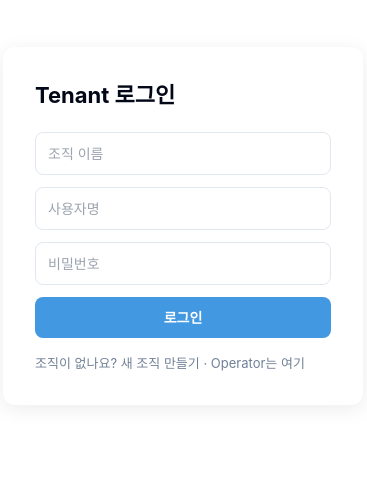
Scenario: TenantLogin — 가입/로그인 + 비밀번호 확인·정책 (issue 209·211) › 비밀번호 정책 위반(400)이면 백엔드 메시지를 보여준다
Click the link "새 조직 만들기": {"x": 160, "y": 363} [121,355,200,371]
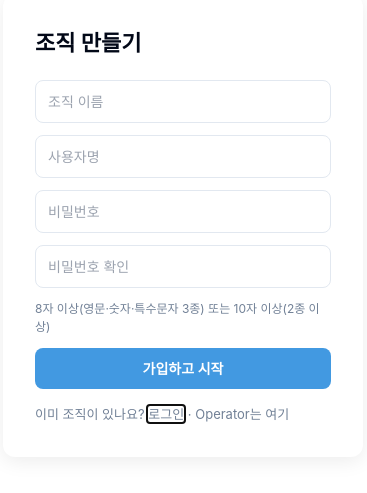
In the field with placeholder "조직 이름": {"x": 183, "y": 102} [35,80,331,123], type "NewCo"
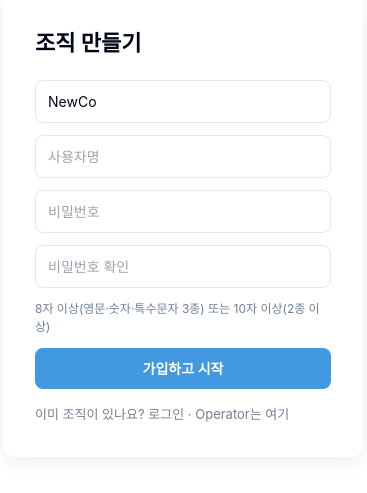
In the field with placeholder "사용자명": {"x": 183, "y": 157} [35,135,331,178], type "owner"
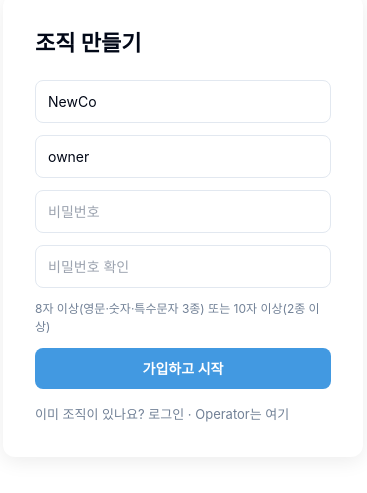
In the password field with placeholder "비밀번호": {"x": 183, "y": 212} [35,190,331,233], type "weak"
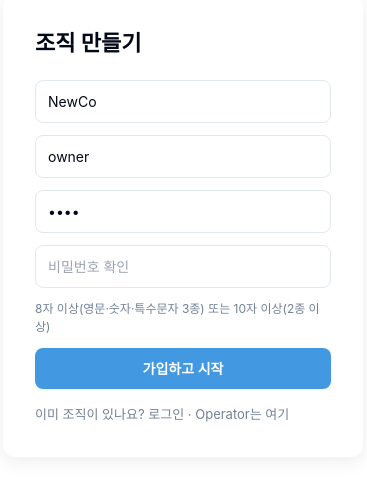
In the password field with placeholder "비밀번호 확인": {"x": 183, "y": 267} [35,245,331,288], type "weak"
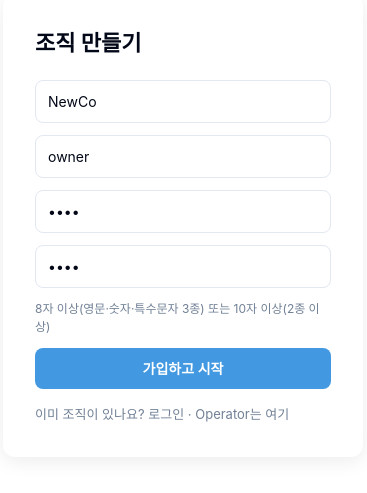
Click the button "가입하고 시작": {"x": 183, "y": 369} [35,348,331,389]
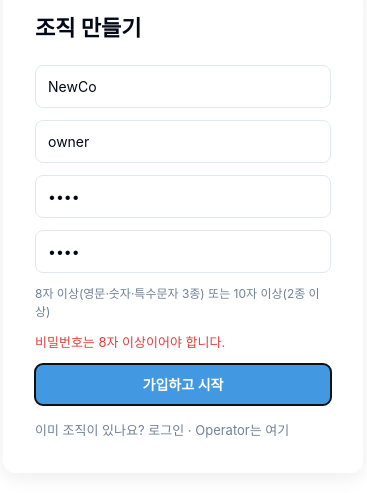
Check: the text "비밀번호는 8자 이상이어야 합니다." is shown, box [35,334,225,350]
